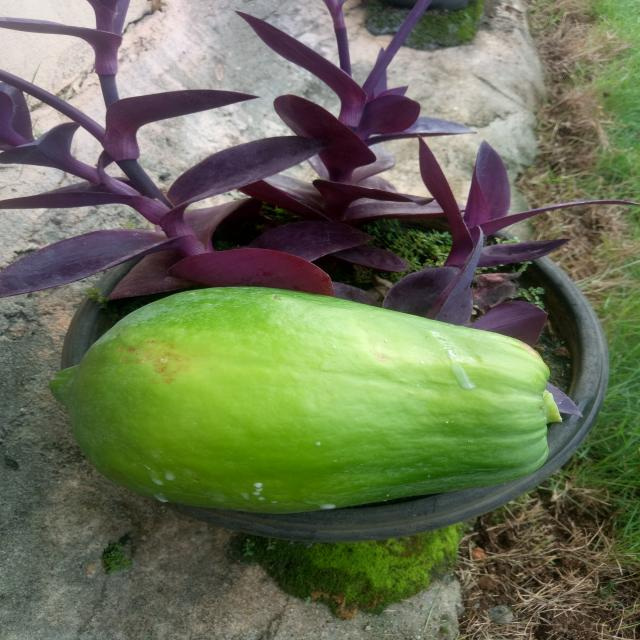Pepaya unrippen: (55, 285, 586, 518)
